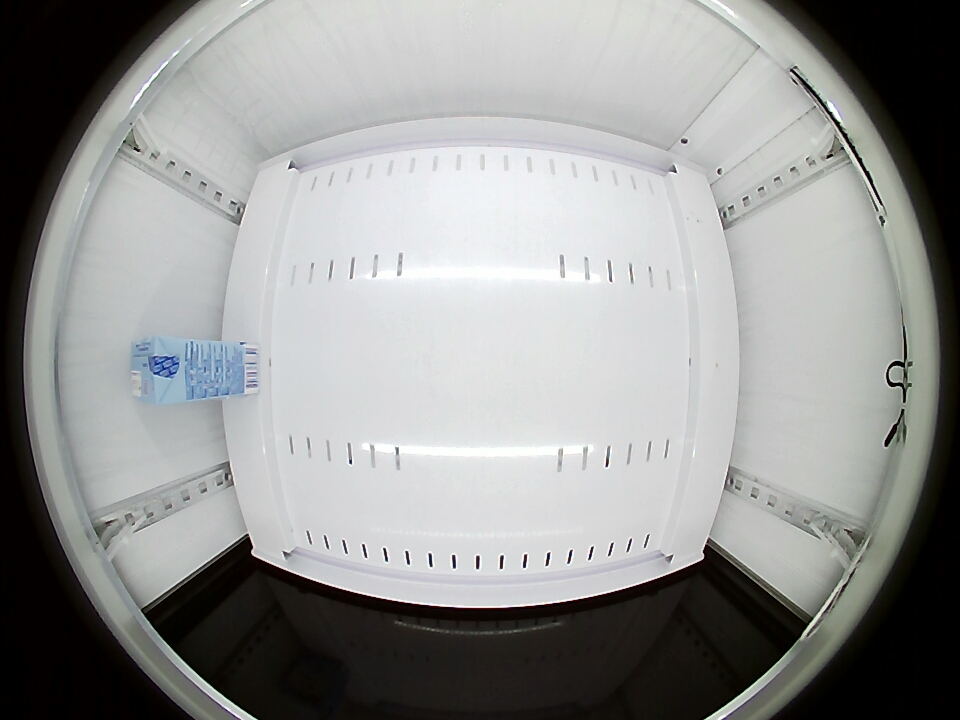weitanaiditang: (131, 336, 194, 403)
